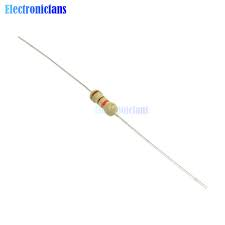resistor: (85, 84, 130, 134)
